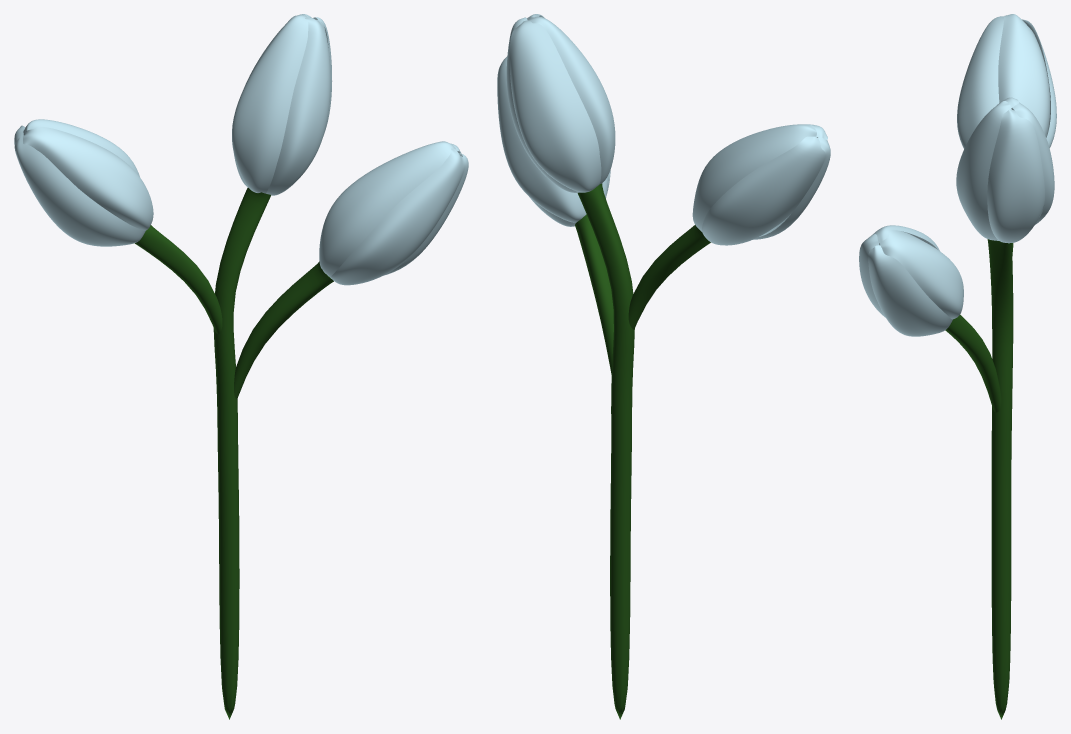
Rendered from Lirio3C-DESHOJADO-FINAL.fbx.
3 views of the same model, side by side, from view 1: azimuth 30°, elevation 25°; view 2: azimuth 150°, elevation 25°; view 3: azimuth 270°, elevation 25° (orthographic). The views are drawn at different scales.
Visible parts, largest first — view 1: Stem, Petal.003, Petal.011, Petal.010, Petal.007, Petal.002, Petal.006, Stem 3, Stem 2, Petal.008, Petal.009; view 2: Stem, Petal.004, Petal.005, Petal.008, Petal.012, Petal.003, Stem 2, Stem 3, Petal.006, Petal.001; view 3: Stem, Petal.001, Petal.009, Petal.008, Petal.012, Petal.002, Petal.007, Stem 3, Petal.004, Petal.010, Petal.005, Petal.011.
Part boxes in pixels (x1,y1,x2,y2): Stem: (213, 187, 270, 719); Petal.003: (232, 15, 308, 193); Petal.011: (319, 141, 455, 278); Petal.010: (331, 148, 464, 285); Petal.007: (23, 127, 153, 230); Petal.002: (266, 16, 330, 195); Petal.006: (14, 135, 145, 246); Stem 3: (234, 261, 333, 399); Stem 2: (135, 225, 222, 333); Petal.008: (23, 119, 139, 176); Petal.009: (384, 153, 468, 275); Stem: (577, 183, 634, 719); Petal.004: (509, 20, 601, 192); Petal.005: (702, 136, 825, 245); Petal.008: (692, 124, 816, 231); Petal.012: (497, 56, 586, 222); Petal.003: (529, 16, 615, 183); Stem 2: (628, 225, 710, 329); Stem 3: (575, 214, 613, 374); Petal.006: (753, 137, 830, 239); Petal.001: (506, 17, 580, 192); Stem: (987, 239, 1013, 719); Petal.001: (987, 109, 1044, 243); Petal.009: (868, 245, 952, 336); Petal.008: (998, 14, 1050, 137); Petal.012: (880, 230, 963, 319); Petal.002: (956, 101, 1011, 240); Petal.007: (957, 16, 1003, 148); Stem 3: (945, 314, 1001, 412); Petal.004: (1012, 102, 1054, 225); Petal.010: (859, 234, 885, 317); Petal.005: (1022, 19, 1056, 147); Petal.011: (872, 225, 939, 250).
Bounding box in the file's own units: 339 × 574 × 157.
